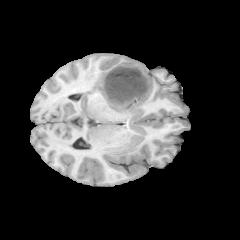glioma: (84, 61, 155, 126)
